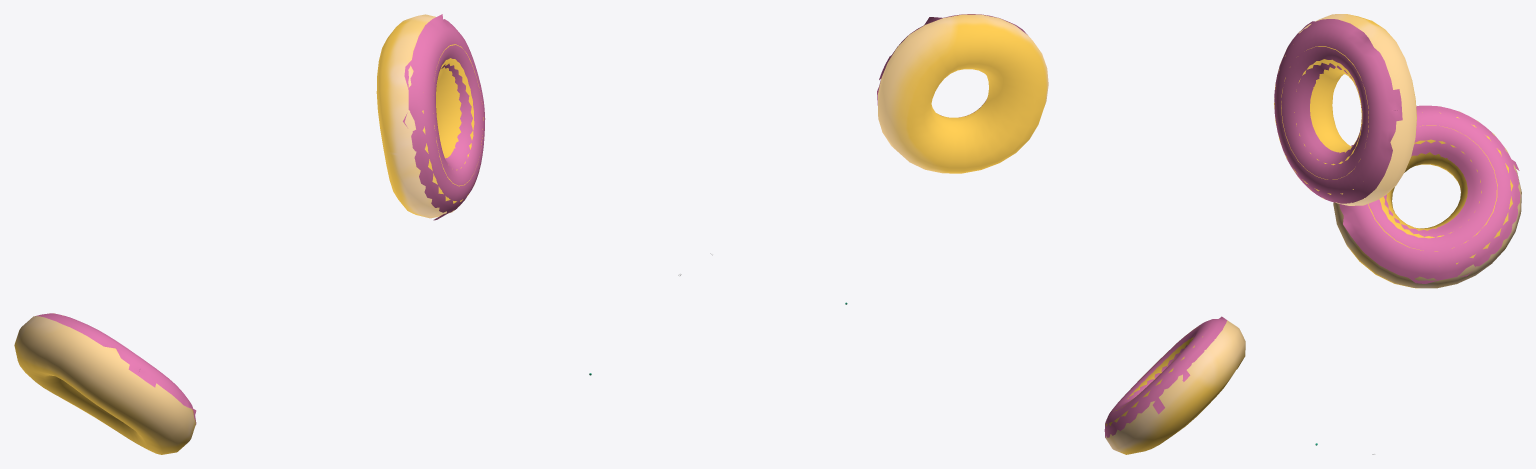
Rendered from donuts614.glb.
3 views of the same model, side by side, from view 1: azimuth 30°, elevation 25°; view 2: azimuth 150°, elevation 25°; view 3: azimuth 270°, elevation 25° (orthographic). The views are drawn at different scales.
Visible parts, largest first — view 1: DONUT 2.0, ICING, DONUT, ICING.001; view 2: DONUT, DONUT 2.0, ICING.001; view 3: ICING.001, ICING, DONUT, DONUT 2.0.
Boxes of the visible parts, bbox=[...] form: DONUT 2.0: bbox=[14, 313, 195, 454]; ICING: bbox=[403, 14, 485, 220]; DONUT: bbox=[376, 14, 483, 218]; ICING.001: bbox=[35, 313, 196, 424]; DONUT: bbox=[878, 14, 1048, 173]; DONUT 2.0: bbox=[1105, 320, 1245, 454]; ICING.001: bbox=[1104, 316, 1227, 437]; ICING.001: bbox=[1339, 105, 1520, 283]; ICING: bbox=[1274, 19, 1402, 203]; DONUT: bbox=[1274, 14, 1416, 205]; DONUT 2.0: bbox=[1333, 106, 1521, 288].
Size of the model in its own units: 0.5919 by 0.3602 by 0.2171.
Materials: 5 (3 with a texture image).
